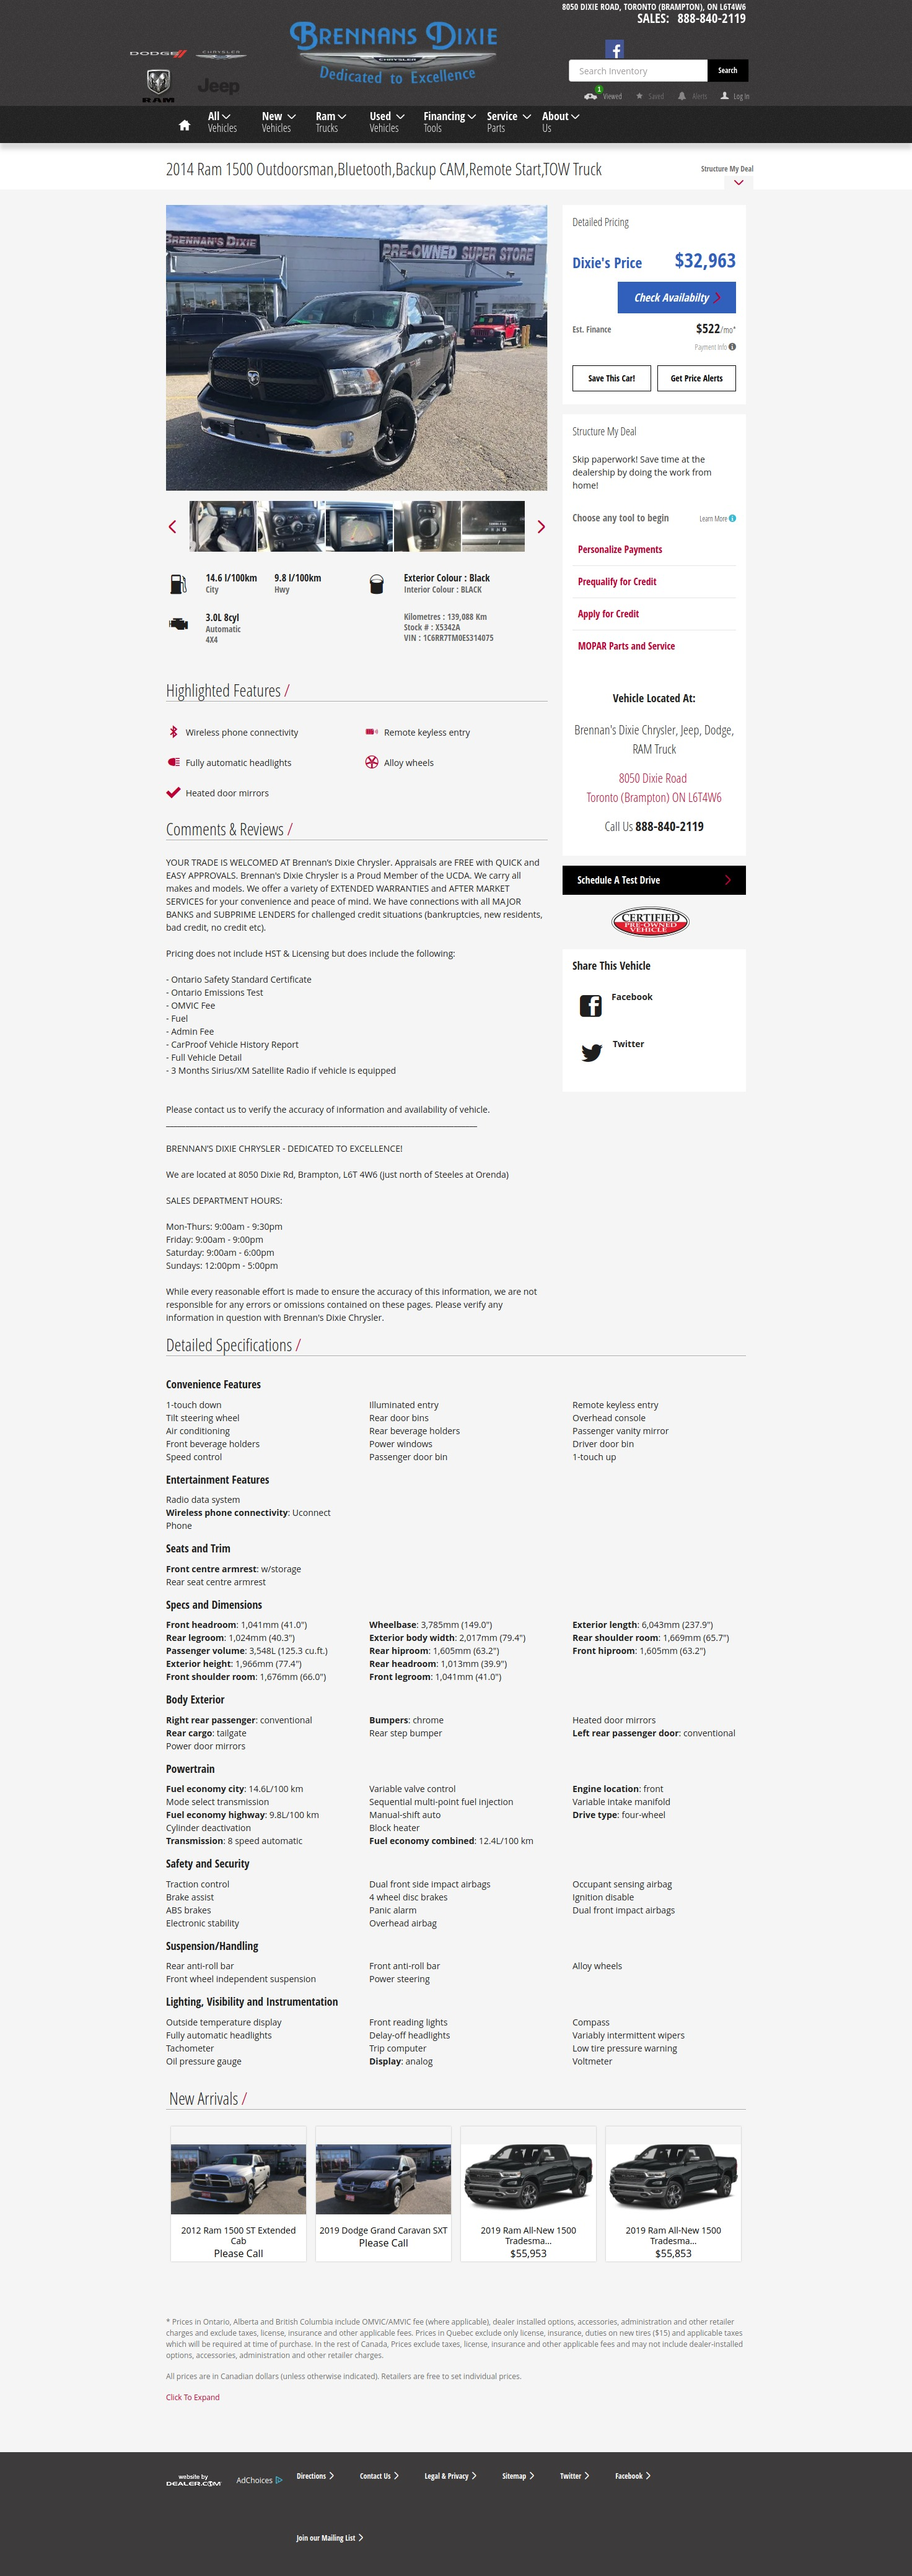car: (537, 521, 547, 534)
